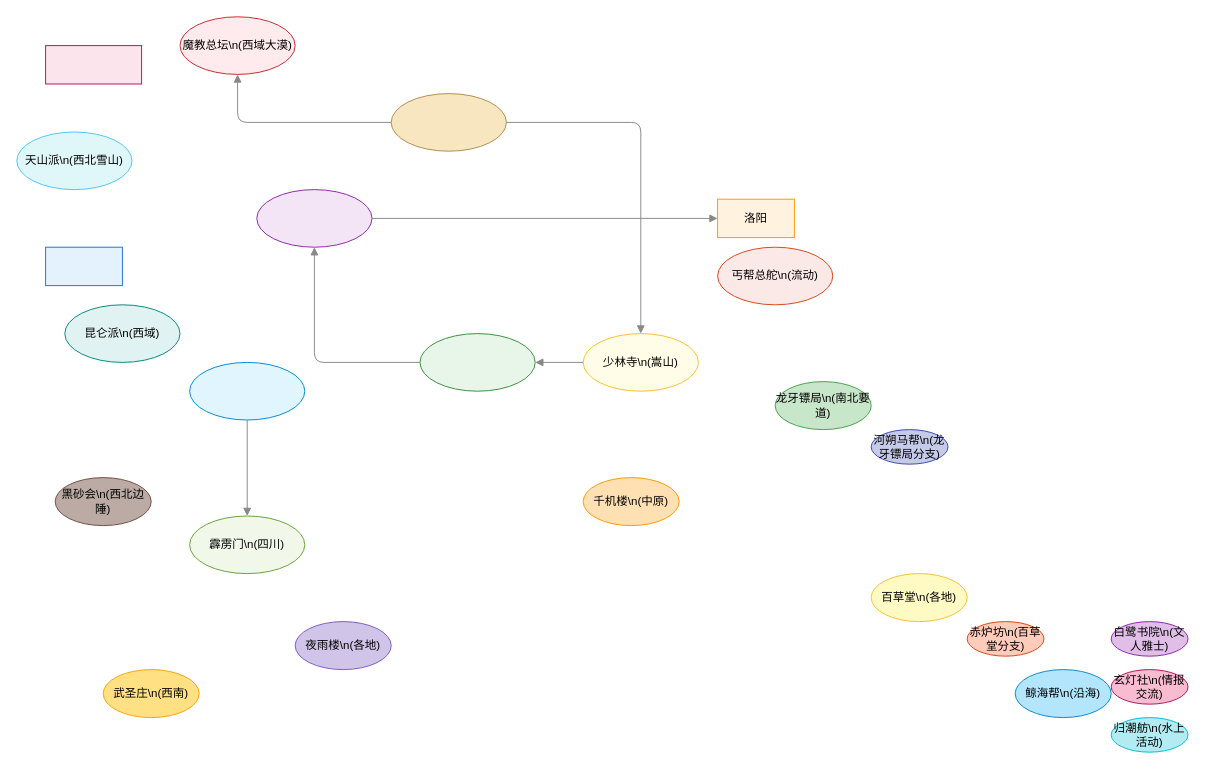
Image size: 1205x769. Some labels were removed from this diagram. The box of each missing label's shape, as (x1, y1, x2, y2) in pixels:
华山派\n(陕西): (256, 189, 372, 247)
峨眉派\n(四川): (189, 361, 305, 420)
武圣庄\n(西北边陲): (390, 93, 506, 151)
武当派\n(湖北): (419, 333, 535, 391)
血河古墓: (45, 45, 142, 84)
雪谷: (45, 246, 122, 286)
